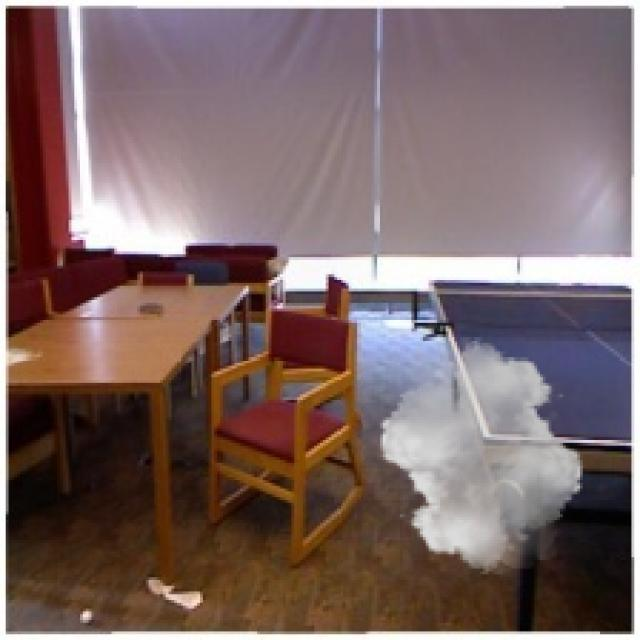smoke: (372, 337, 592, 574)
